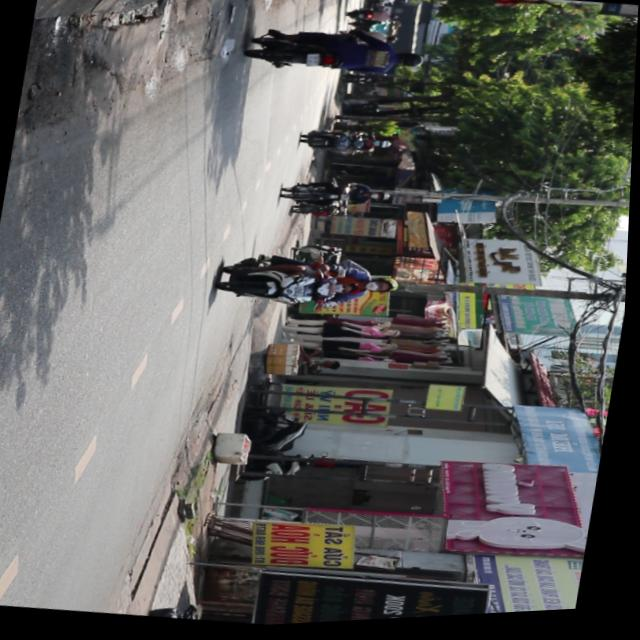helmet: (369, 280, 401, 299)
licenseplate: (213, 242, 407, 328)
